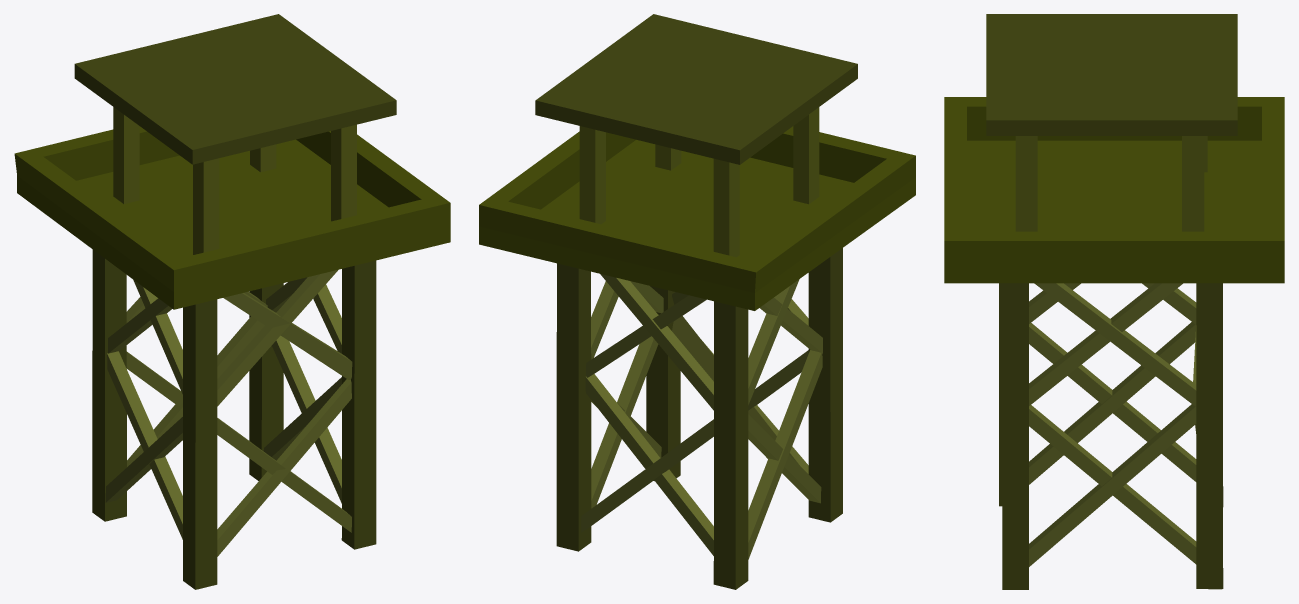
Rendered from asker gözcü kulesi.fbx.
3 renders of one model, left to right at view 1: azimuth 30°, elevation 25°; view 2: azimuth 150°, elevation 25°; view 3: azimuth 270°, elevation 25°, orthographic. The views are drawn at different scales.
Visible parts, largest first — view 1: Uçak, Küp, Uçak.001, Küp.004, Küp.001; view 2: Uçak, Küp, Uçak.001, Küp.004, Küp.001; view 3: Uçak, Uçak.001, Küp.004, Küp, Küp.001.
Boxes of the visible parts, <box> form: Uçak: <box>14,126,450,309</box>; Küp: <box>92,249,376,589</box>; Uçak.001: <box>74,14,396,164</box>; Küp.004: <box>105,269,352,556</box>; Küp.001: <box>113,107,356,254</box>; Uçak: <box>479,126,915,310</box>; Küp: <box>556,248,842,589</box>; Uçak.001: <box>535,14,857,164</box>; Küp.004: <box>581,274,822,559</box>; Küp.001: <box>579,107,819,257</box>; Uçak: <box>944,97,1284,283</box>; Uçak.001: <box>986,14,1237,135</box>; Küp.004: <box>1029,283,1196,566</box>; Küp: <box>999,283,1223,589</box>; Küp.001: <box>1015,136,1207,231</box>.
Bounding box in the file's own units: 743 × 1147 × 742.
